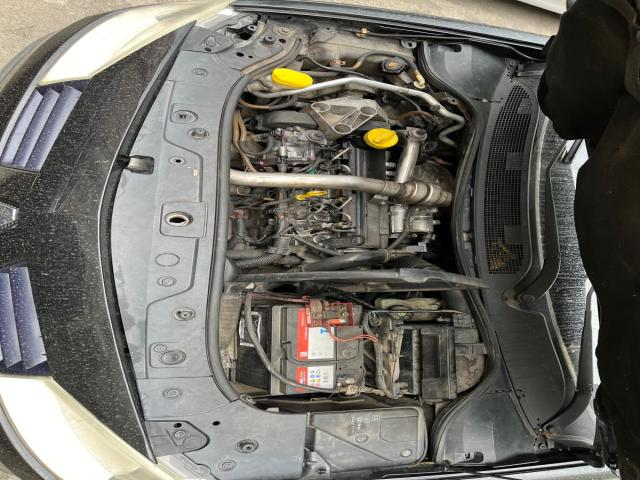accumulator: (252, 299, 365, 388), (235, 315, 313, 395)
antifreeze_tank: (308, 31, 413, 75)
fuse_box: (310, 407, 425, 472)
high_pressure_pump: (262, 127, 317, 171)
